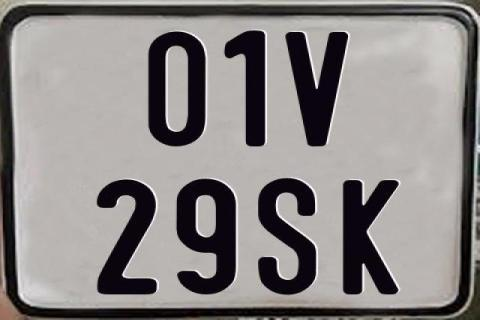0: (95, 177, 159, 297), (146, 29, 206, 150), (175, 177, 236, 293), (221, 30, 263, 148)
K: (340, 180, 401, 298)
S: (256, 178, 318, 300)
V: (285, 31, 354, 146)
